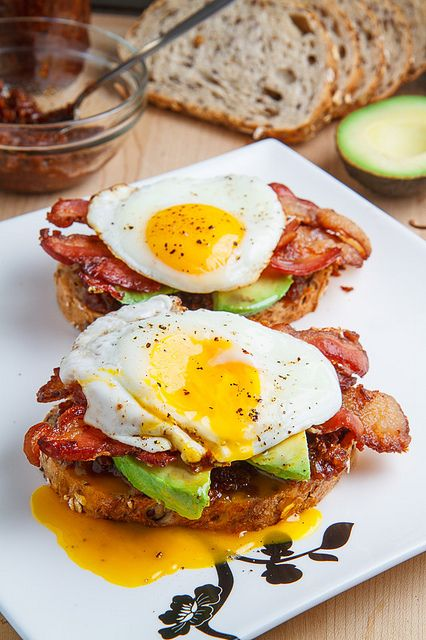fried egg: (85, 324, 311, 446), (100, 178, 275, 285)
slice of bread: (125, 2, 417, 129), (48, 471, 342, 522)
